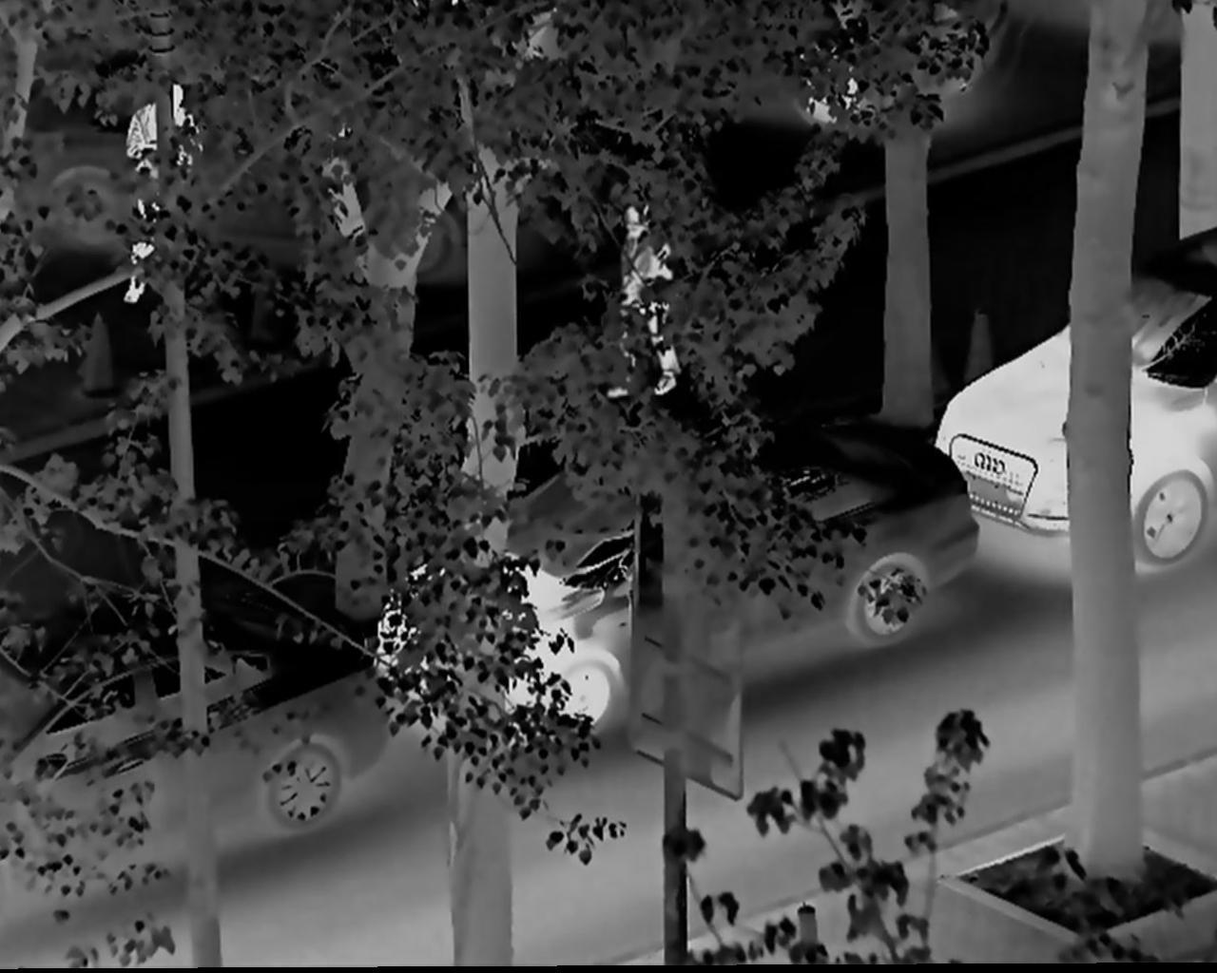person: (115, 81, 198, 304), (606, 205, 691, 398)
